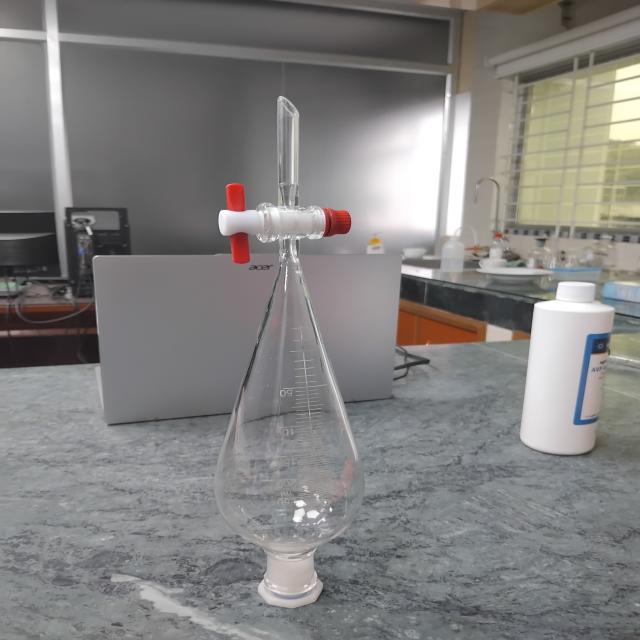Separating_Funnel: (167, 69, 414, 631)
